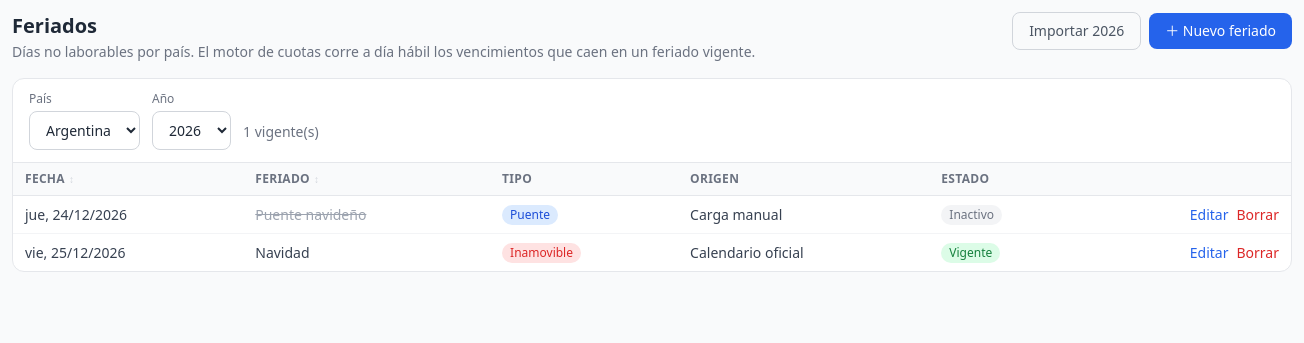
Test: Feriados › importa el año elegido y avisa cuántos sumó
Click the button "Importar 2026": {"x": 1077, "y": 31} [1012, 12, 1141, 50]
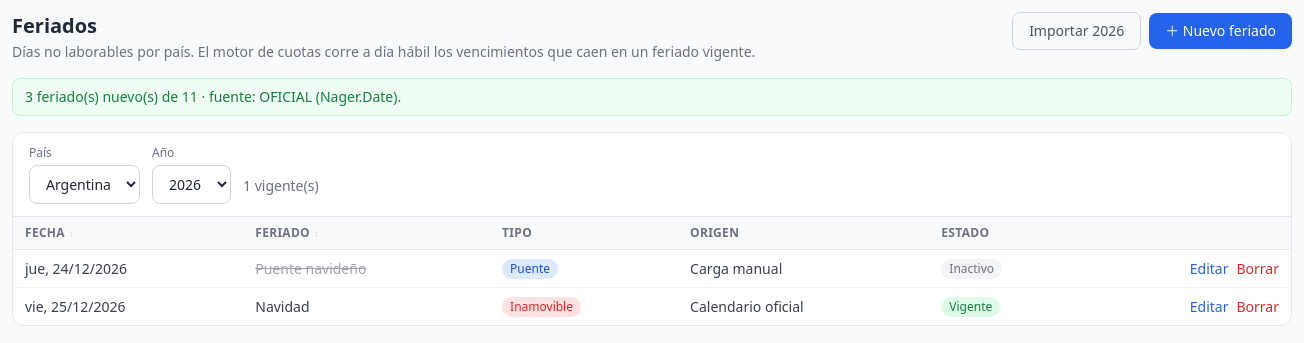
Check: the text "3 feriado(s) nuevo(s) de 11 · fuente: OFICIAL (Nager.Date)." is shown, box [12, 78, 1292, 116]
